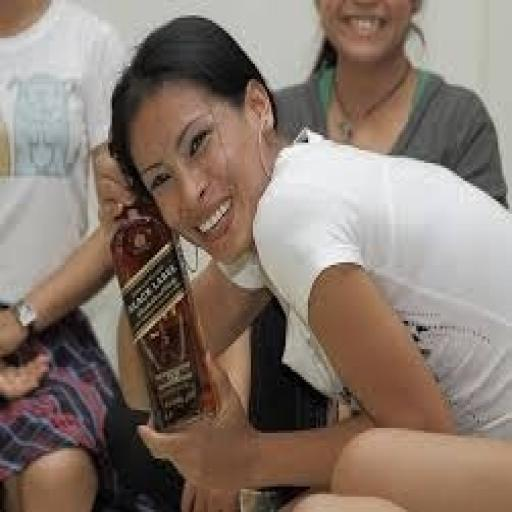drinking: (108, 189, 218, 433)
